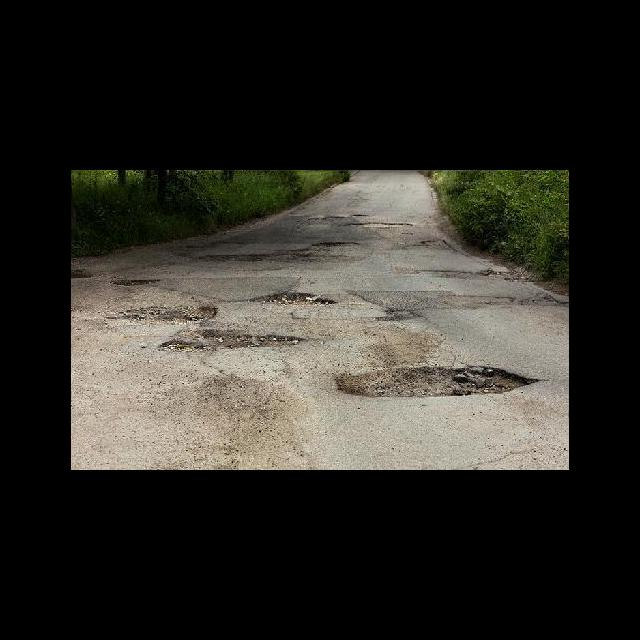lubang_kecil: (339, 355, 537, 406), (153, 326, 308, 360), (247, 281, 343, 314), (105, 303, 223, 329), (193, 249, 276, 273), (109, 274, 165, 297), (305, 234, 360, 256)
